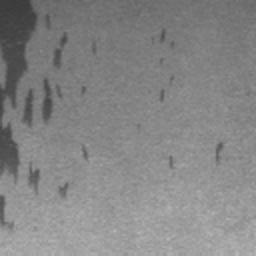Red iron sheet: (0, 0, 69, 196), (0, 196, 13, 229), (58, 182, 69, 200), (215, 142, 224, 163), (82, 143, 90, 161), (159, 28, 165, 44), (168, 154, 174, 169), (81, 84, 87, 95), (92, 41, 97, 54), (160, 90, 165, 102)
